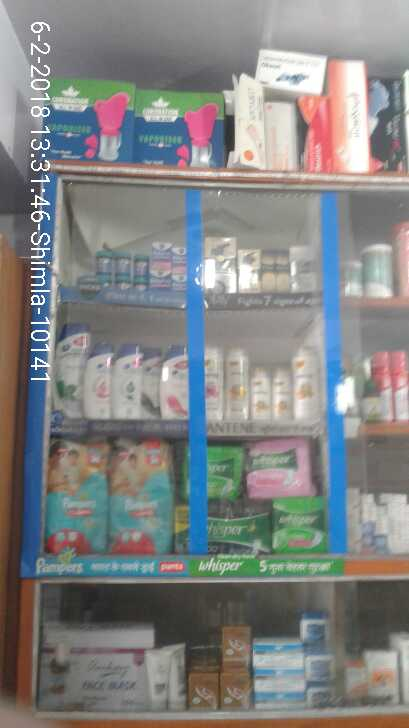beauty: (53, 322, 92, 419), (157, 343, 189, 420), (114, 343, 142, 419), (86, 342, 113, 419), (293, 347, 320, 421), (224, 344, 249, 420), (248, 366, 274, 420), (272, 366, 294, 420)
pharmacy: (108, 438, 173, 553), (48, 436, 108, 553), (246, 441, 312, 496), (208, 500, 272, 553), (273, 497, 328, 553), (207, 447, 242, 499), (96, 249, 149, 279)
